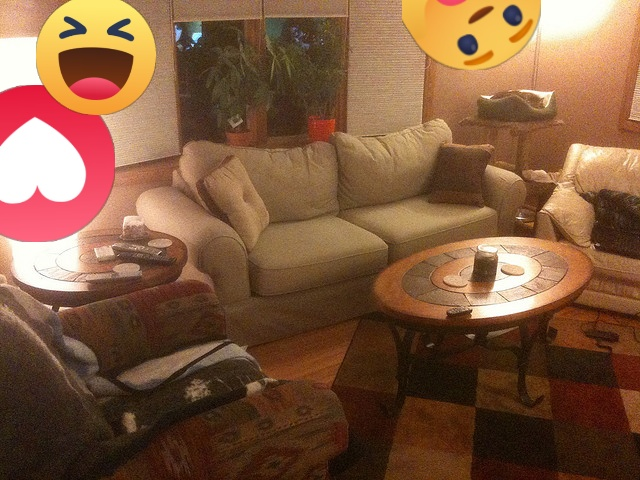care: (402, 0, 541, 70)
haha: (36, 0, 156, 115)
love: (0, 85, 115, 242)
